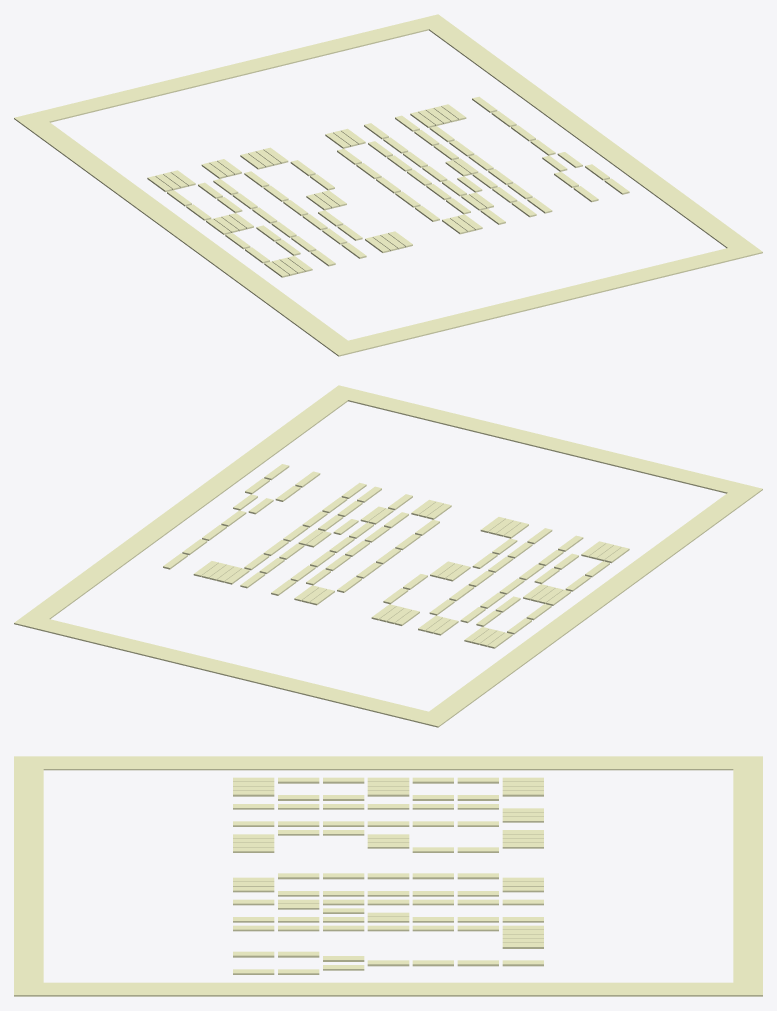
Rendered from marking_bus_only_box_white.glb.
The picture shows the model from 3 angles, top to bottom: view 1: azimuth 30°, elevation 25°; view 2: azimuth 150°, elevation 25°; view 3: azimuth 270°, elevation 25°; orthographic projection. The views are drawn at different scales.
Parts seen in each view (by area): view 1: bus_only_box_left, bus_only_box_right, bus_only_box_bottom, bus_only_box_top; view 2: bus_only_box_left, bus_only_box_right, bus_only_box_top, bus_only_box_bottom; view 3: bus_only_box_left, bus_only_box_right, bus_only_box_top, bus_only_box_bottom.
Boxes of the visible parts, left/top/right/bottom form: bus_only_box_left: left=26, top=122, right=347, bottom=346; bus_only_box_right: left=429, top=23, right=749, bottom=248; bus_only_box_bottom: left=326, top=242, right=762, bottom=356; bus_only_box_top: left=14, top=14, right=450, bottom=127; bus_only_box_left: left=429, top=493, right=750, bottom=717; bus_only_box_right: left=27, top=394, right=347, bottom=619; bus_only_box_top: left=14, top=613, right=450, bottom=727; bus_only_box_bottom: left=326, top=385, right=762, bottom=498; bus_only_box_left: left=43, top=756, right=733, bottom=770; bus_only_box_right: left=43, top=982, right=733, bottom=996; bus_only_box_top: left=733, top=756, right=762, bottom=996; bus_only_box_bottom: left=14, top=756, right=43, bottom=996.
Size of the model in its own units: 1.72 by 0.006 by 2.28.
